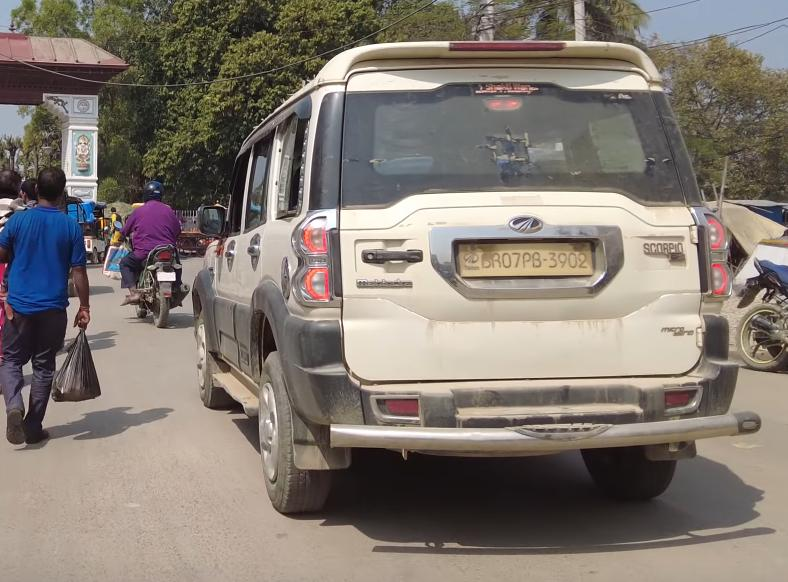SUV: (186, 37, 763, 526)
